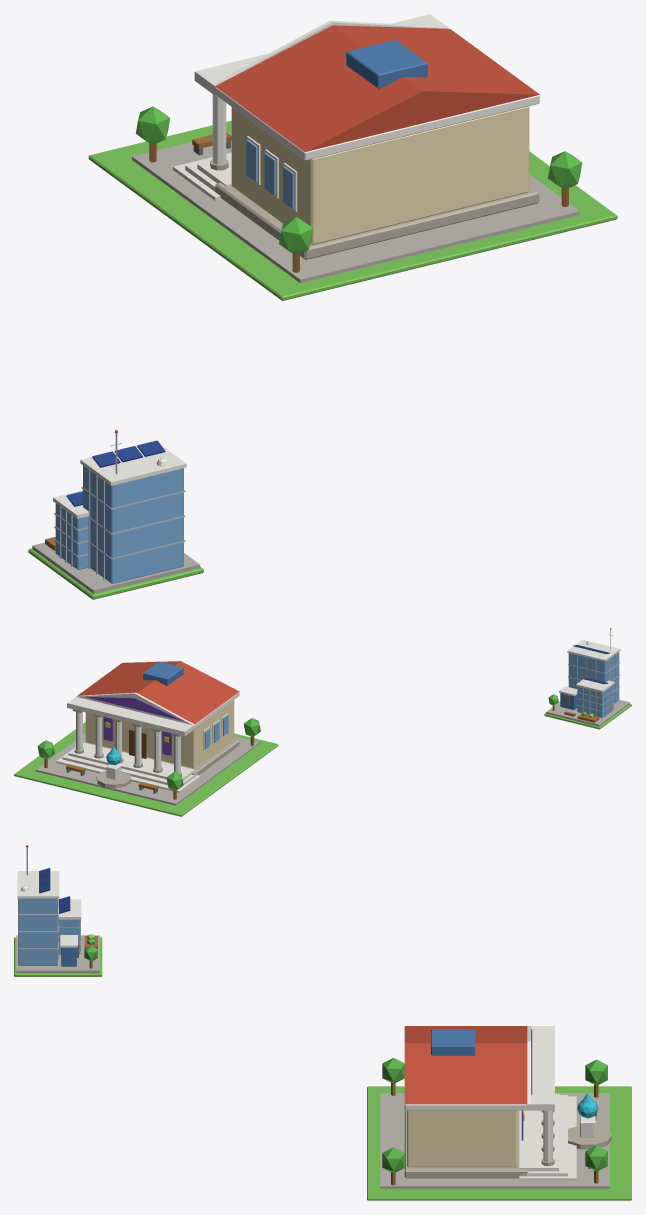
3 views of the same model, one above another, from view 1: azimuth 30°, elevation 25°; view 2: azimuth 150°, elevation 25°; view 3: azimuth 270°, elevation 25° (orthographic). The views are drawn at different scales.
Visible parts, largest first — view 1: museu_test, tech_test; view 2: museu_test, tech_test; view 3: museu_test, tech_test.
Boxes of the visible parts, left/top/right/bottom form: museu_test: left=88, top=14, right=617, bottom=300; tech_test: left=28, top=430, right=203, bottom=599; museu_test: left=14, top=661, right=278, bottom=816; tech_test: left=544, top=628, right=631, bottom=729; museu_test: left=367, top=1026, right=631, bottom=1200; tech_test: left=14, top=845, right=102, bottom=976.
Bounding box in the file's own units: 14 × 2.69 × 14.
